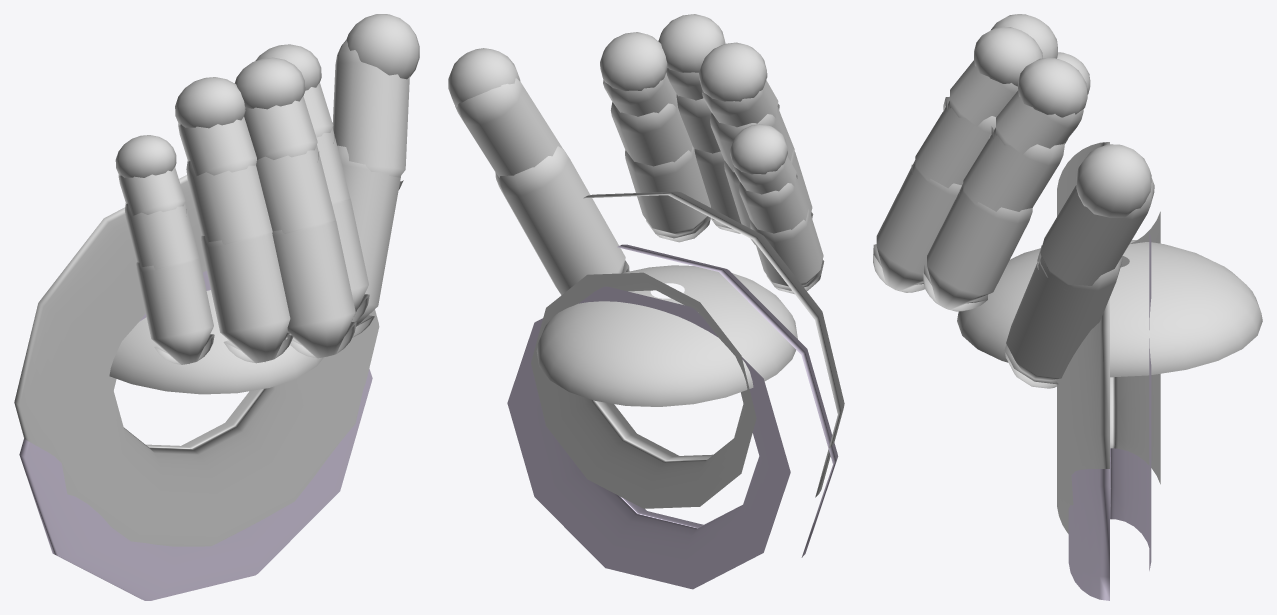
The model's file is Glove.glb.
3 views of the same model, side by side, from view 1: azimuth 30°, elevation 25°; view 2: azimuth 150°, elevation 25°; view 3: azimuth 270°, elevation 25° (orthographic). The views are drawn at different scales.
Parts seen in each view (by area): view 1: Wrist, Cuff, Ring_Seg1, Middle_Seg1, Palm, Thumb_Seg2, Pinky_Seg1, Ring_Seg2, Thumb_Seg1, Middle_Seg2, Pinky_Seg2, Thumb_Tip (+10 smaller); view 2: Cuff, Palm, Wrist, Thumb_Seg1, Thumb_Seg2, Index_Seg1, Index_Seg2, Ring_Tip, Index_Tip, Pinky_Seg1, Middle_Tip, Thumb_Tip (+10 smaller); view 3: Palm, Wrist, Cuff, Thumb_Seg1, Index_Seg1, Middle_Seg1, Thumb_Seg2, Index_Seg2, Thumb_Tip, Middle_Seg2, Index_Tip, Index_Seg3 (+3 smaller).
Boxes of the visible parts, x1,y1,x2,y2 form: Wrist: (14, 175, 379, 546); Cuff: (19, 270, 372, 600); Ring_Seg1: (201, 233, 293, 363); Middle_Seg1: (272, 220, 356, 358); Palm: (109, 290, 323, 394); Thumb_Seg2: (332, 40, 409, 190); Pinky_Seg1: (136, 258, 214, 364); Ring_Seg2: (186, 161, 272, 244); Thumb_Seg1: (337, 145, 401, 337); Middle_Seg2: (256, 145, 335, 233); Pinky_Seg2: (125, 202, 199, 269); Thumb_Tip: (346, 14, 419, 79); Cuff: (507, 244, 838, 589); Palm: (536, 265, 797, 406); Wrist: (531, 191, 844, 508); Thumb_Seg1: (495, 146, 629, 295); Thumb_Seg2: (455, 78, 563, 177); Index_Seg1: (625, 146, 710, 242); Index_Seg2: (610, 102, 692, 166); Ring_Tip: (699, 42, 767, 101); Index_Tip: (600, 32, 667, 90); Pinky_Seg1: (750, 209, 824, 294); Middle_Tip: (658, 14, 725, 72); Thumb_Tip: (448, 48, 520, 106); Palm: (957, 240, 1262, 377); Wrist: (1057, 142, 1160, 533); Cuff: (1068, 232, 1151, 600); Thumb_Seg1: (1004, 256, 1122, 388); Index_Seg1: (923, 183, 1032, 311); Middle_Seg1: (873, 160, 961, 292); Thumb_Seg2: (1037, 178, 1154, 290); Index_Seg2: (959, 127, 1064, 211); Thumb_Tip: (1076, 144, 1151, 217); Middle_Seg2: (911, 101, 995, 188); Index_Tip: (1018, 57, 1087, 117); Index_Seg3: (989, 90, 1083, 154).
Size of the model in its own units: 0.1576 by 0.2077 by 0.1319.
